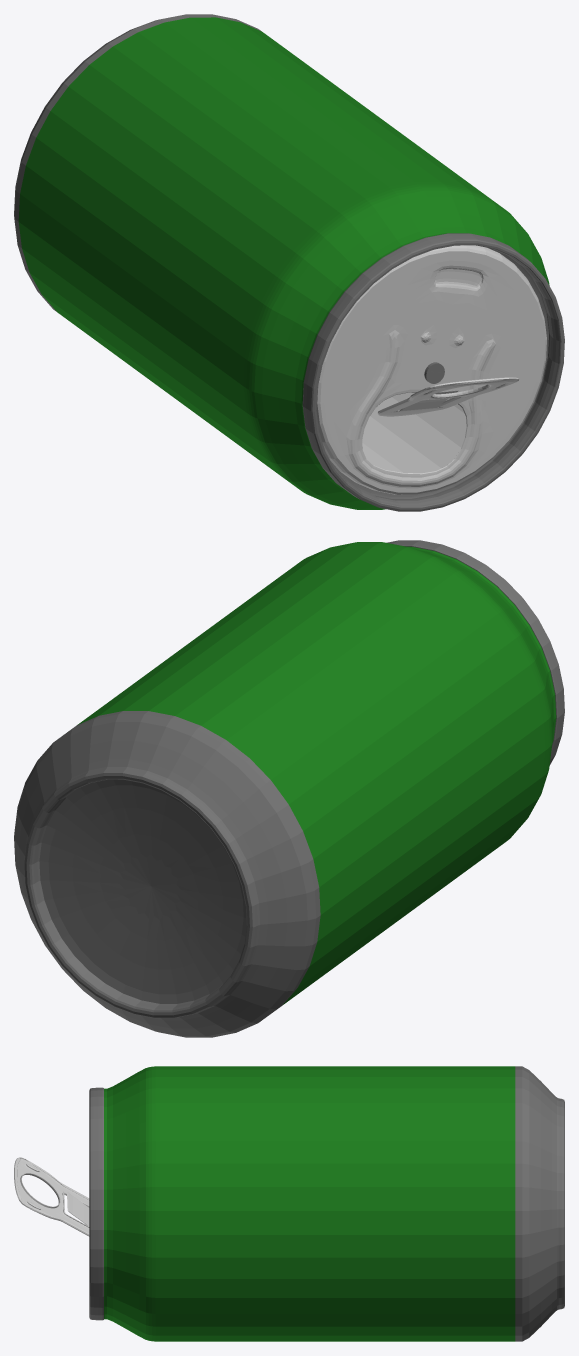
The picture shows the model from 3 angles, top to bottom: view 1: azimuth 30°, elevation 25°; view 2: azimuth 150°, elevation 25°; view 3: azimuth 270°, elevation 25°; orthographic projection. The views are drawn at different scales.
Parts seen in each view (by area): view 1: coke cola can; view 2: coke cola can; view 3: coke cola can.
Part boxes in pixels (x1,y1,x2,y2): coke cola can: (14, 14, 564, 511); coke cola can: (14, 540, 564, 1037); coke cola can: (14, 1066, 564, 1341).
Size of the model in its own units: 132 by 132 by 263.
